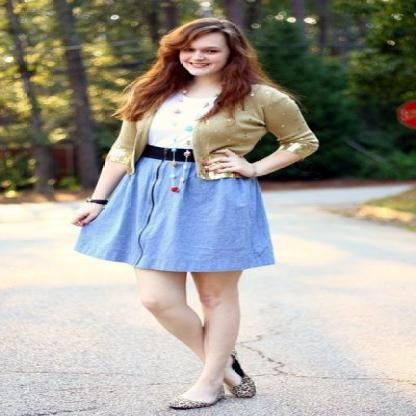jacket: (116, 84, 318, 180)
shirt: (150, 94, 211, 150)
shoe: (181, 369, 261, 402)
skirt: (75, 158, 278, 271)
